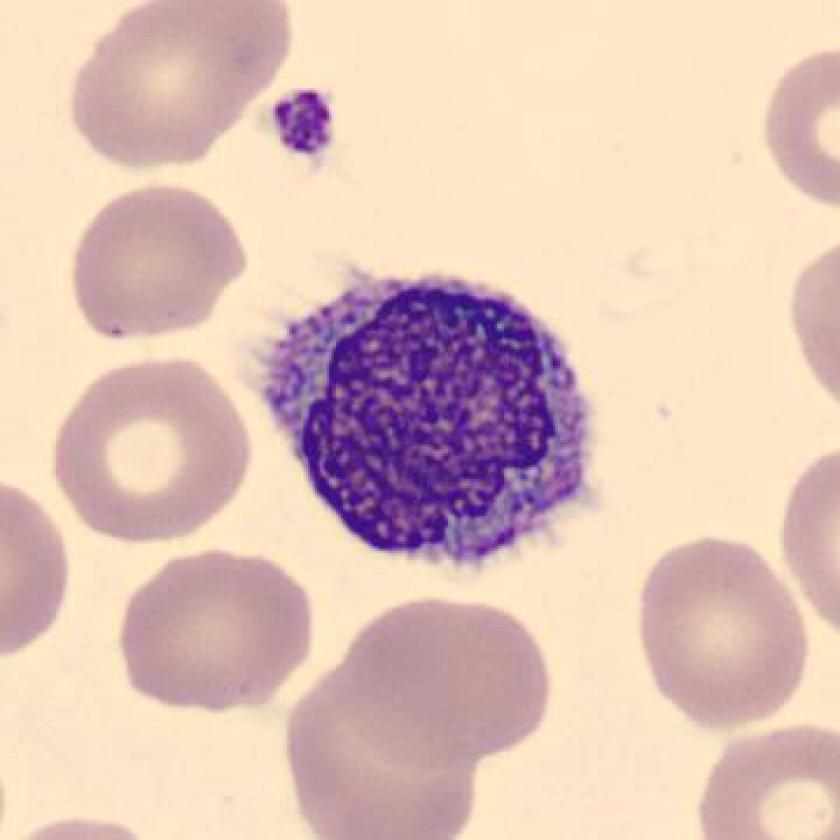monocyte: (230, 246, 612, 589)
